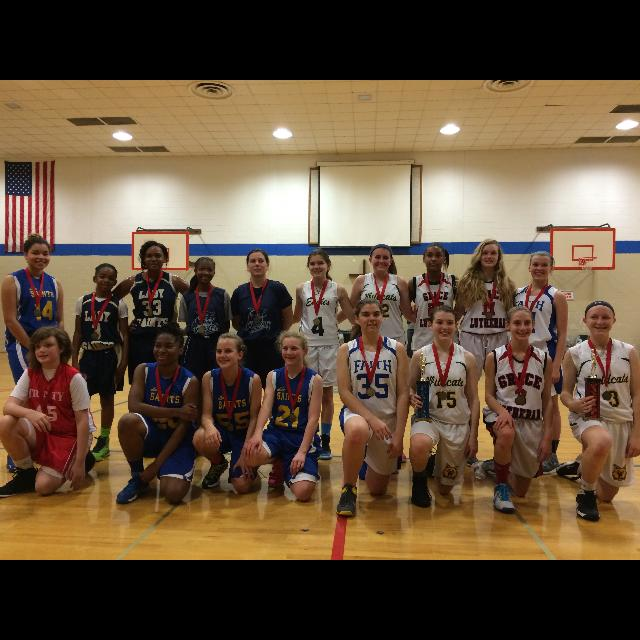head: (582, 300, 618, 338), (153, 328, 185, 364), (505, 306, 535, 342), (428, 306, 458, 342), (354, 298, 384, 334), (35, 328, 65, 364), (214, 334, 243, 371), (23, 238, 51, 270), (282, 334, 308, 366), (528, 250, 554, 282), (142, 242, 168, 272), (92, 263, 118, 291), (476, 240, 502, 268), (307, 249, 331, 279), (369, 244, 393, 272), (423, 243, 447, 271), (194, 256, 216, 284), (247, 250, 270, 276)
person: (432, 238, 542, 470), (319, 242, 431, 466), (262, 242, 374, 462), (379, 242, 487, 466), (98, 239, 204, 455), (482, 249, 570, 477), (332, 296, 412, 518), (474, 304, 556, 516), (0, 324, 98, 500), (0, 231, 70, 476), (112, 322, 204, 508), (406, 303, 482, 511), (226, 246, 296, 464), (241, 328, 325, 504), (67, 262, 133, 464), (190, 330, 266, 498), (176, 255, 237, 457)
